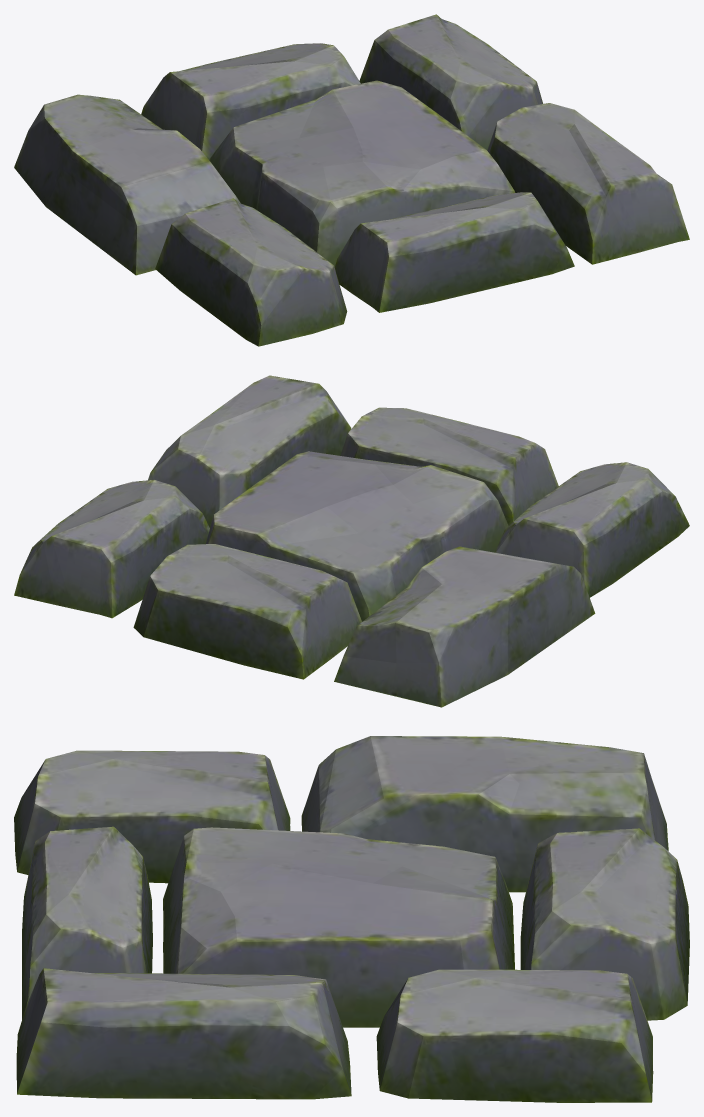
The model's file is RockPath_Square_Small_2.glb.
3 renders of one model, top to bottom at view 1: azimuth 30°, elevation 25°; view 2: azimuth 150°, elevation 25°; view 3: azimuth 270°, elevation 25°, orthographic. The views are drawn at different scales.
Bounding box in the file's own units: 0.9927 × 0.1493 × 0.9661.
1 material, 1 textured.
